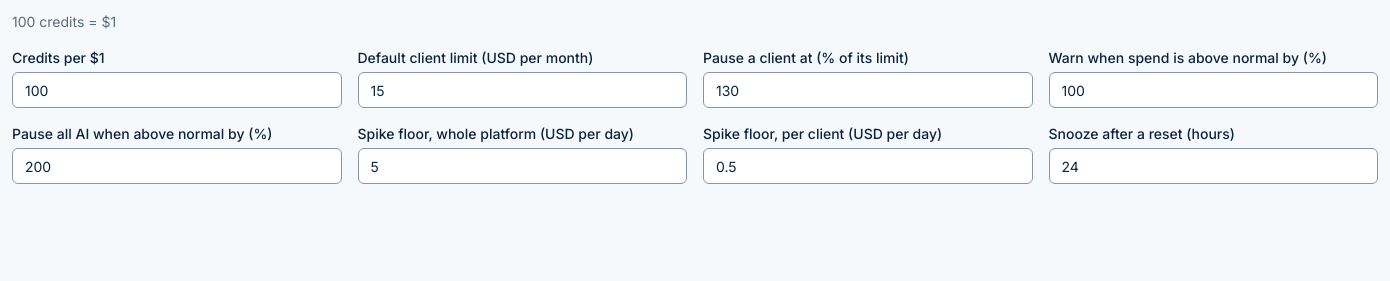
Test: SpendGuardSettings › a change back to the stored value leaves the form clean
Replace the text in the number field labelled "Default client limit (USD per month)" with "20" at (522, 90), box [358,72,687,108]
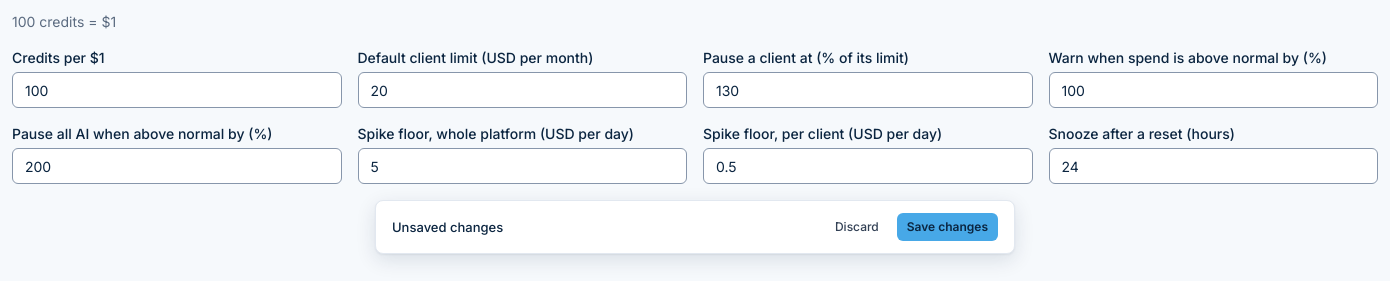
Replace the text in the number field labelled "Default client limit (USD per month)" with "15" at (522, 90), box [358,72,687,108]
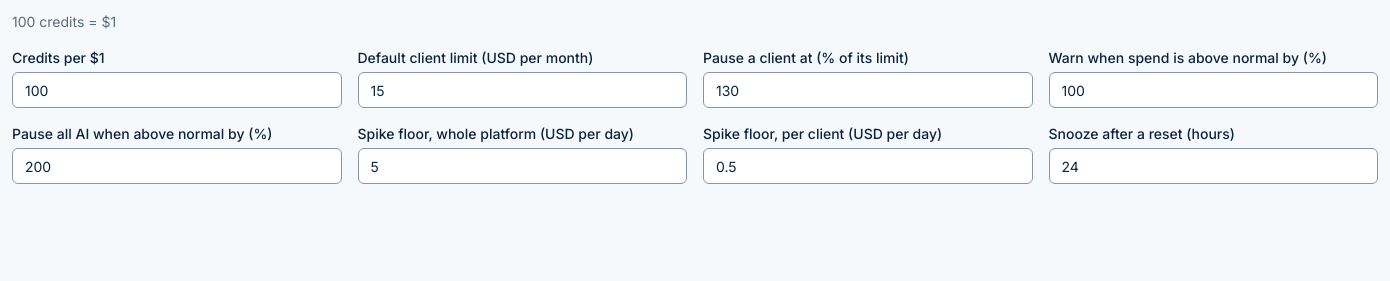
Expected: the text "Unsaved changes" is gone
